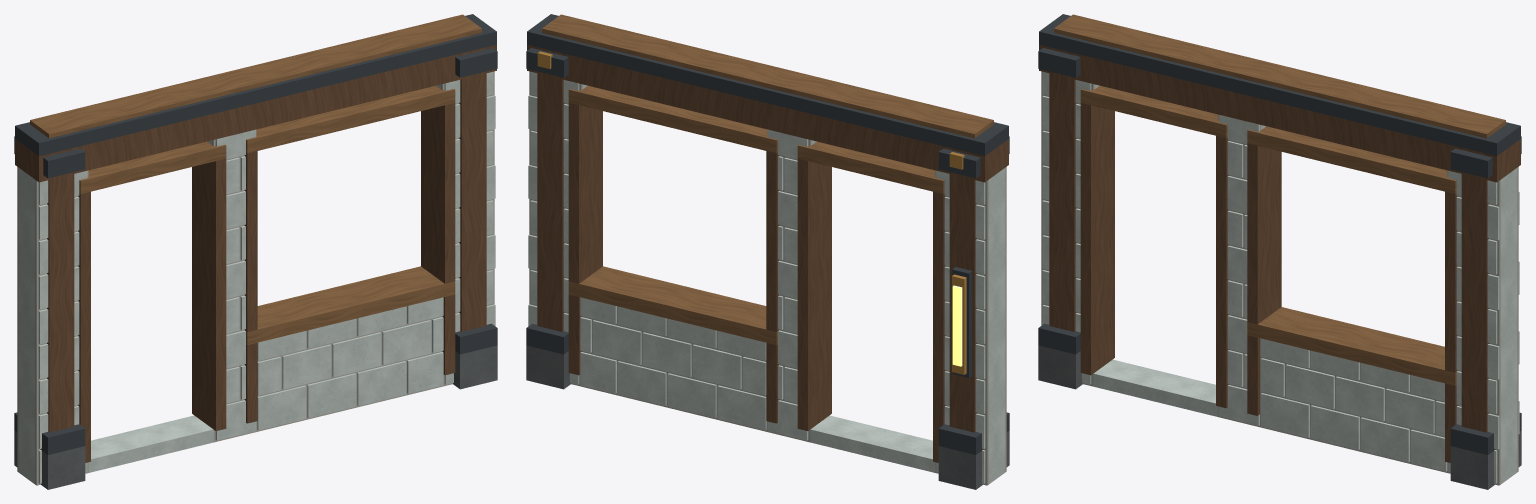
3 views of the same model, side by side, from view 1: azimuth 30°, elevation 25°; view 2: azimuth 150°, elevation 25°; view 3: azimuth 330°, elevation 25° (orthographic).
Visible parts, largest first — view 1: 旧楼分段入口及窗洞墙; view 2: 旧楼分段入口及窗洞墙; view 3: 旧楼分段入口及窗洞墙.
Boxes of the visible parts, x1,y1,x2,y2 form: 旧楼分段入口及窗洞墙: (14, 14, 497, 489); 旧楼分段入口及窗洞墙: (526, 14, 1009, 489); 旧楼分段入口及窗洞墙: (1038, 14, 1521, 489).
Size of the model in its own units: 4.4 by 3.2 by 0.6.
8 materials, 8 textured.
